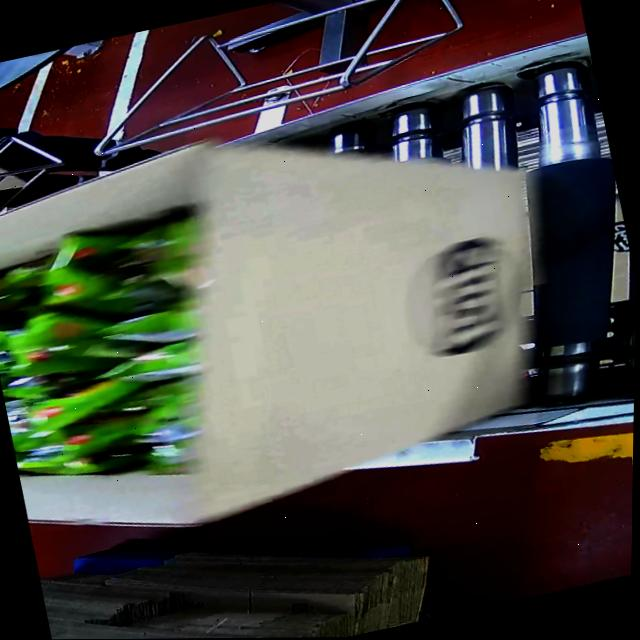YOGURT_HERB: (0, 210, 236, 489)
